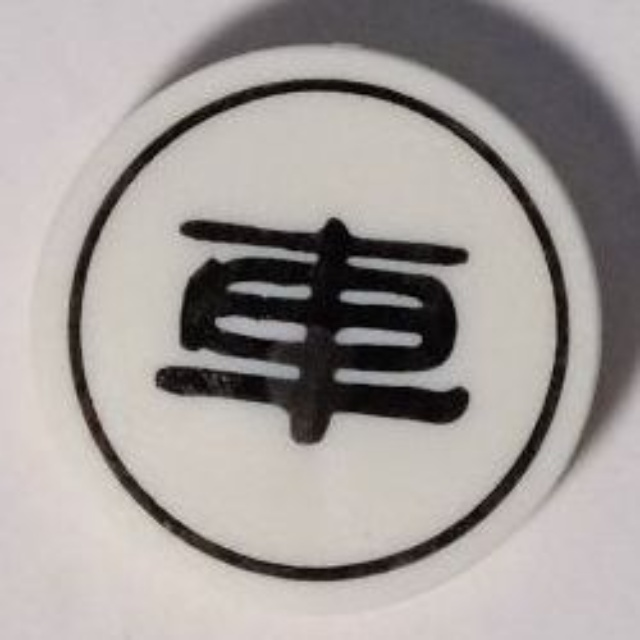black_xe: (26, 38, 609, 610)
